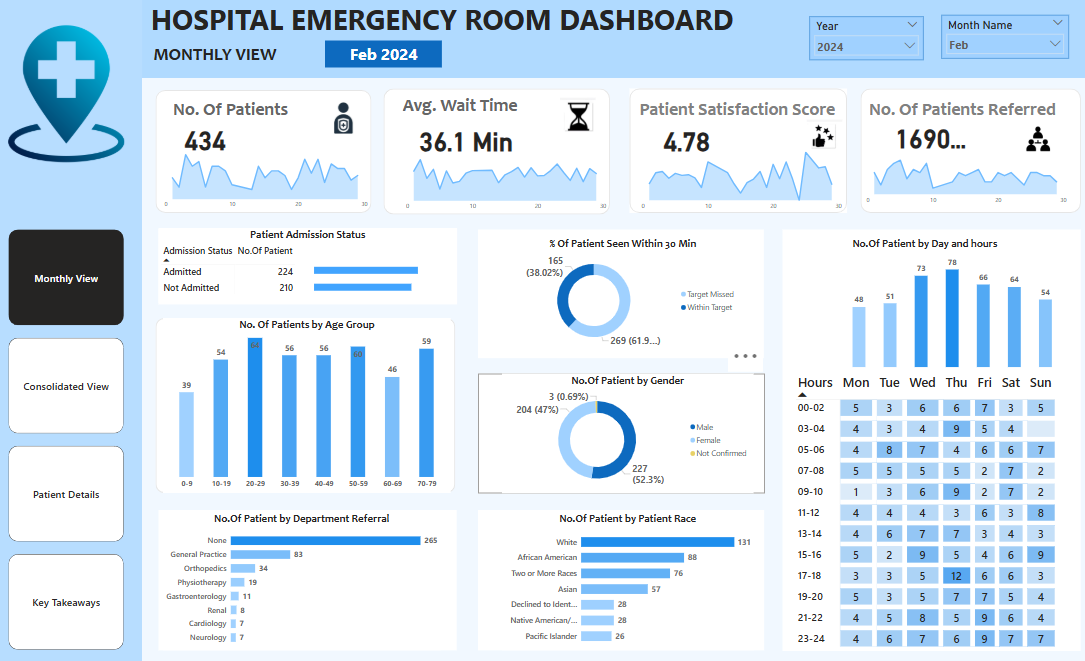

This screenshot's page, from the dashboard's own definition file:
{"tool":"powerbi","page":{"name":"Monthly View","canvas":[2300,1400],"ordinal":0},"visuals":[{"type":"shape","box":[0,3.1,308.6,1397.9],"z":0},{"type":"textbox","box":[1649.8,484.9,629.7,887.9],"z":1000},{"type":"textbox","box":[342.1,1077.2,625.9,294.8],"z":2000},{"type":"shape","box":[1331.8,192.1,456.5,261.3],"z":3000},{"type":"shape","box":[336.9,195.2,453.4,258.2],"z":4000},{"type":"textbox","box":[1013.8,484.9,601.4,273.9],"z":5000},{"type":"shape","box":[308.6,0,1990,170],"z":6000},{"type":"textbox","box":[308.6,0,1259.4,91.3],"z":7000},{"type":"textbox","box":[308.6,91.3,305.4,56.7],"z":8000},{"type":"card","fields":{"Values":["Hospital ER_Data.No.Of Patient"]},"box":[368.4,261.3,144.8,66.1],"z":9000},{"type":"slicer","fields":{"Values":["Date table.Year"]},"box":[1709.6,40.9,239.3,91.3],"z":10000},{"type":"slicer","fields":{"Values":["Date table.Month Name"]},"box":[1986.7,37.8,267.6,91.3],"z":11000},{"type":"textbox","box":[368.4,199,286.5,63],"z":12000},{"type":"areaChart","fields":{"Category":["Date table.Date.Variation.Date Hierarchy.Day"],"Y":["Hospital ER_Data.No.Of Patient"]},"box":[343.2,311.7,447.1,141.7],"z":13000},{"type":"card","fields":{"Values":["Min(Date table.Month & Year)"]},"box":[692.7,91.3,245.6,56.7],"z":14000},{"type":"textbox","box":[368.4,207.8,296,63],"z":15000},{"type":"shape","box":[815.5,192.1,475.4,264.5],"z":16000},{"type":"card","fields":{"Values":["Hospital ER_Data.Avg Wait Time"]},"box":[865.8,258.2,245.6,78.7],"z":17000},{"type":"textbox","box":[850.1,198.4,261.3,72.4],"z":18000},{"type":"areaChart","fields":{"Category":["Date table.Date.Variation.Date Hierarchy.Day"],"Y":["Avg(Hospital ER_Data.Patient Waittime)"]},"box":[850.1,311.7,440.8,144.8],"z":19000},{"type":"shape","box":[1816.7,192.1,462.8,261.3],"z":20000},{"type":"textbox","box":[368.4,207.8,296,63],"z":21000},{"type":"textbox","box":[1347.6,207.8,434.5,63],"z":22000},{"type":"card","fields":{"Values":["Hospital ER_Data.Satisfaction Score"]},"box":[1344.4,258.2,214.1,78.7],"z":23000},{"type":"areaChart","fields":{"Category":["Date table.Date.Variation.Date Hierarchy.Day"],"Y":["Hospital ER_Data.Satisfaction Score"]},"box":[1344.4,311.7,440.8,144.8],"z":24000},{"type":"textbox","box":[1830.5,207.4,425.8,61.9],"z":25000},{"type":"card","fields":{"Values":["Hospital ER_Data.No. Of Patients Referred"]},"box":[1876.5,258.2,173.2,66.1],"z":26000},{"type":"areaChart","fields":{"Category":["Date table.Date.Variation.Date Hierarchy.Day"],"Y":["Hospital ER_Data.No. Of Patients Referred"]},"box":[1816,302.1,440.3,141.9],"z":27000},{"type":"shape","box":[338.4,673.3,629.6,367.6],"z":28000},{"type":"pivotTable","fields":{"Rows":["Hospital ER_Data.Waittime Interval"],"Columns":["Date table.Day Name"],"Values":["Hospital ER_Data.No.Of Patient"]},"box":[1675.9,782.8,575.9,586.2],"z":29000},{"type":"pivotTable","fields":{"Rows":["Hospital ER_Data.Admission Status"],"Values":["Hospital ER_Data.No.Of Patient"]},"box":[343.2,488,626.6,157.4],"z":30000},{"type":"clusteredColumnChart","title":"No. Of Patients by Age Group","fields":{"Category":["Hospital ER_Data.Age Group"],"Y":["Hospital ER_Data.No.Of Patient"]},"box":[353,673.3,604.1,367.6],"z":31000},{"type":"clusteredBarChart","fields":{"Category":["Hospital ER_Data.Department Referral"],"Y":["Hospital ER_Data.No.Of Patient"]},"box":[353,1080.9,582.3,291.1],"z":32000},{"type":"donutChart","title":"% Of Patient Seen Within 30 Min","fields":{"Category":["Hospital ER_Data.Waittime Status"],"Y":["Hospital ER_Data.No.Of Patient"]},"box":[1070.5,503.8,494.3,239.3],"z":33000},{"type":"pivotTable","title":"Patient Admission Status","fields":{"Rows":["Hospital ER_Data.Admission Status"],"Values":["Hospital ER_Data.No.Of Patient"]},"box":[343.2,488,626.6,154.3],"z":34000},{"type":"textbox","box":[1013.8,790.3,601.4,251.9],"z":35000},{"type":"donutChart","title":"No.Of Patient by Gender","fields":{"Category":["Hospital ER_Data.Patient Gender"],"Y":["Hospital ER_Data.No.Of Patient"]},"box":[1062.7,789.7,527.7,251.1],"z":36000},{"type":"textbox","box":[1015.3,1077.2,600.5,294.8],"z":37000},{"type":"clusteredBarChart","fields":{"Category":["Hospital ER_Data.Patient Race"],"Y":["Hospital ER_Data.No.Of Patient"]},"box":[1062.7,1080.9,527.7,291.1],"z":38000},{"type":"columnChart","title":"No.Of Patient by Day and hours","fields":{"Y":["Hospital ER_Data.No.Of Patient"],"Category":["Date table.Day Name"]},"box":[1793.1,503.4,431,279.3],"z":39000},{"type":"image","box":[0,0,299.1,406.2],"z":40000},{"type":"pageNavigator","box":[28.3,488,242.4,884.7],"z":41000},{"type":"image","box":[692.7,207.8,75.6,88.2],"z":42000},{"type":"image","box":[1180.7,195.2,85,103.9],"z":43000},{"type":"image","box":[1693.9,251.9,94.5,72.4],"z":44000},{"type":"image","box":[2122.1,258.2,135.4,78.7],"z":45000},{"type":"barChart","fields":{"Category":["Hospital ER_Data.Admission Status"],"Y":["Hospital ER_Data.No.Of Patient"]},"box":[664.3,535.2,302.3,107],"z":46000}]}

Visuals, with their boxes in screenshot pixels (x1, y1, x2, y2), scaled from the page's 2300x1400 canvas onto the 1085x661 screenshot:
shape: 0,1,146,660
textbox: 778,229,1075,648
textbox: 161,509,457,648
shape: 628,91,844,214
shape: 159,92,373,214
textbox: 478,229,762,358
shape: 146,0,1084,80
textbox: 146,0,740,43
textbox: 146,43,290,70
card - Hospital ER_Data.No.Of Patient: 174,123,242,155
slicer - Date table.Year: 806,19,919,62
slicer - Date table.Month Name: 937,18,1063,61
textbox: 174,94,309,124
areaChart - Date table.Date.Variation.Date Hierarchy.Day x Hospital ER_Data.No.Of Patient: 162,147,373,214
card - Min(Date table.Month & Year): 327,43,443,70
textbox: 174,98,313,128
shape: 385,91,609,216
card - Hospital ER_Data.Avg Wait Time: 408,122,524,159
textbox: 401,94,524,128
areaChart - Date table.Date.Variation.Date Hierarchy.Day x Avg(Hospital ER_Data.Patient Waittime): 401,147,609,216
shape: 857,91,1075,214
textbox: 174,98,313,128
textbox: 636,98,841,128
card - Hospital ER_Data.Satisfaction Score: 634,122,735,159
areaChart - Date table.Date.Variation.Date Hierarchy.Day x Hospital ER_Data.Satisfaction Score: 634,147,842,216
textbox: 864,98,1064,127
card - Hospital ER_Data.No. Of Patients Referred: 885,122,967,153
areaChart - Date table.Date.Variation.Date Hierarchy.Day x Hospital ER_Data.No. Of Patients Referred: 857,143,1064,210
shape: 160,318,457,491
pivotTable - Hospital ER_Data.Waittime Interval x Date table.Day Name: 791,370,1062,646
pivotTable - Hospital ER_Data.Admission Status x Hospital ER_Data.No.Of Patient: 162,230,457,305
"No. Of Patients by Age Group" clusteredColumnChart: 167,318,452,491
clusteredBarChart - Hospital ER_Data.Department Referral x Hospital ER_Data.No.Of Patient: 167,510,441,648
"% Of Patient Seen Within 30 Min" donutChart: 505,238,738,351
"Patient Admission Status" pivotTable: 162,230,457,303
textbox: 478,373,762,492
"No.Of Patient by Gender" donutChart: 501,373,750,491
textbox: 479,509,762,648
clusteredBarChart - Hospital ER_Data.Patient Race x Hospital ER_Data.No.Of Patient: 501,510,750,648
"No.Of Patient by Day and hours" columnChart: 846,238,1049,370
image: 0,0,141,192
pageNavigator: 13,230,128,648
image: 327,98,362,140
image: 557,92,597,141
image: 799,119,844,153
image: 1001,122,1065,159
barChart - Hospital ER_Data.Admission Status x Hospital ER_Data.No.Of Patient: 313,253,456,303
